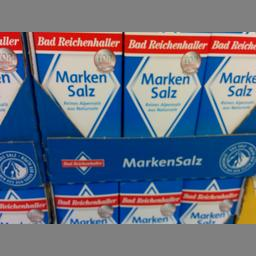spices: (29, 31, 120, 138), (121, 31, 210, 136), (196, 32, 250, 134)
